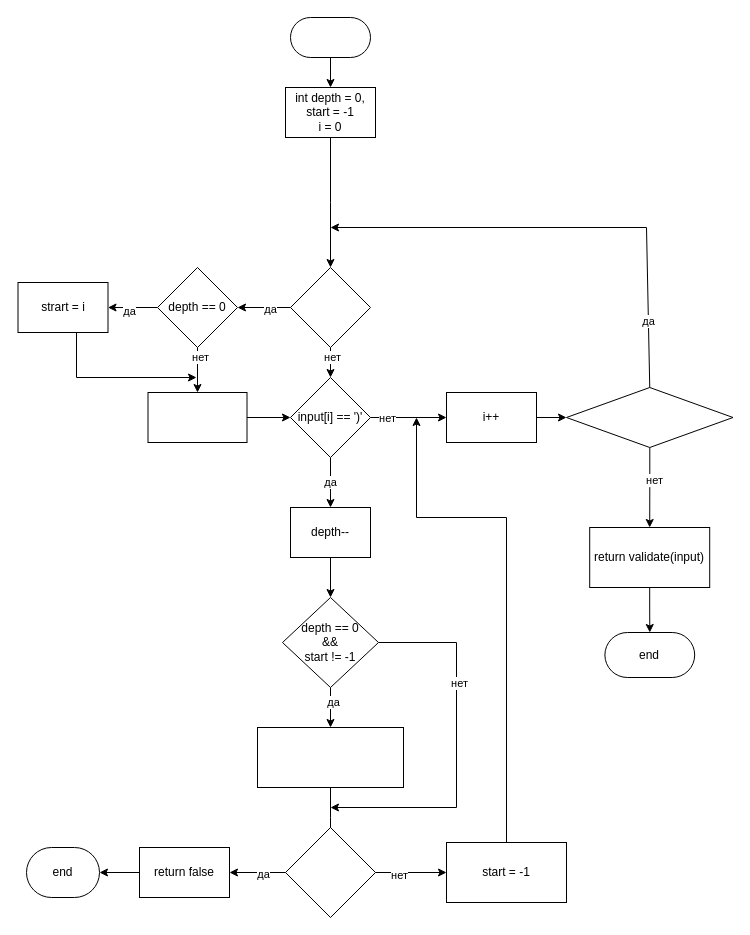
Image size: 750x935. Some labels were removed from this diagram. The shapes that lost their labels are listed below. From the top down, each one's centre as x and y in pixels, then its label:
At [330,37]: "begin".
At [330,307]: "input[i] == '('".
At [197,417]: "depth++".
At [649,417]: "if (i < input.size())".
At [330,757]: "String sub = input.substring(start, i + 1)".
At [330,872]: "!validate(sub))".
